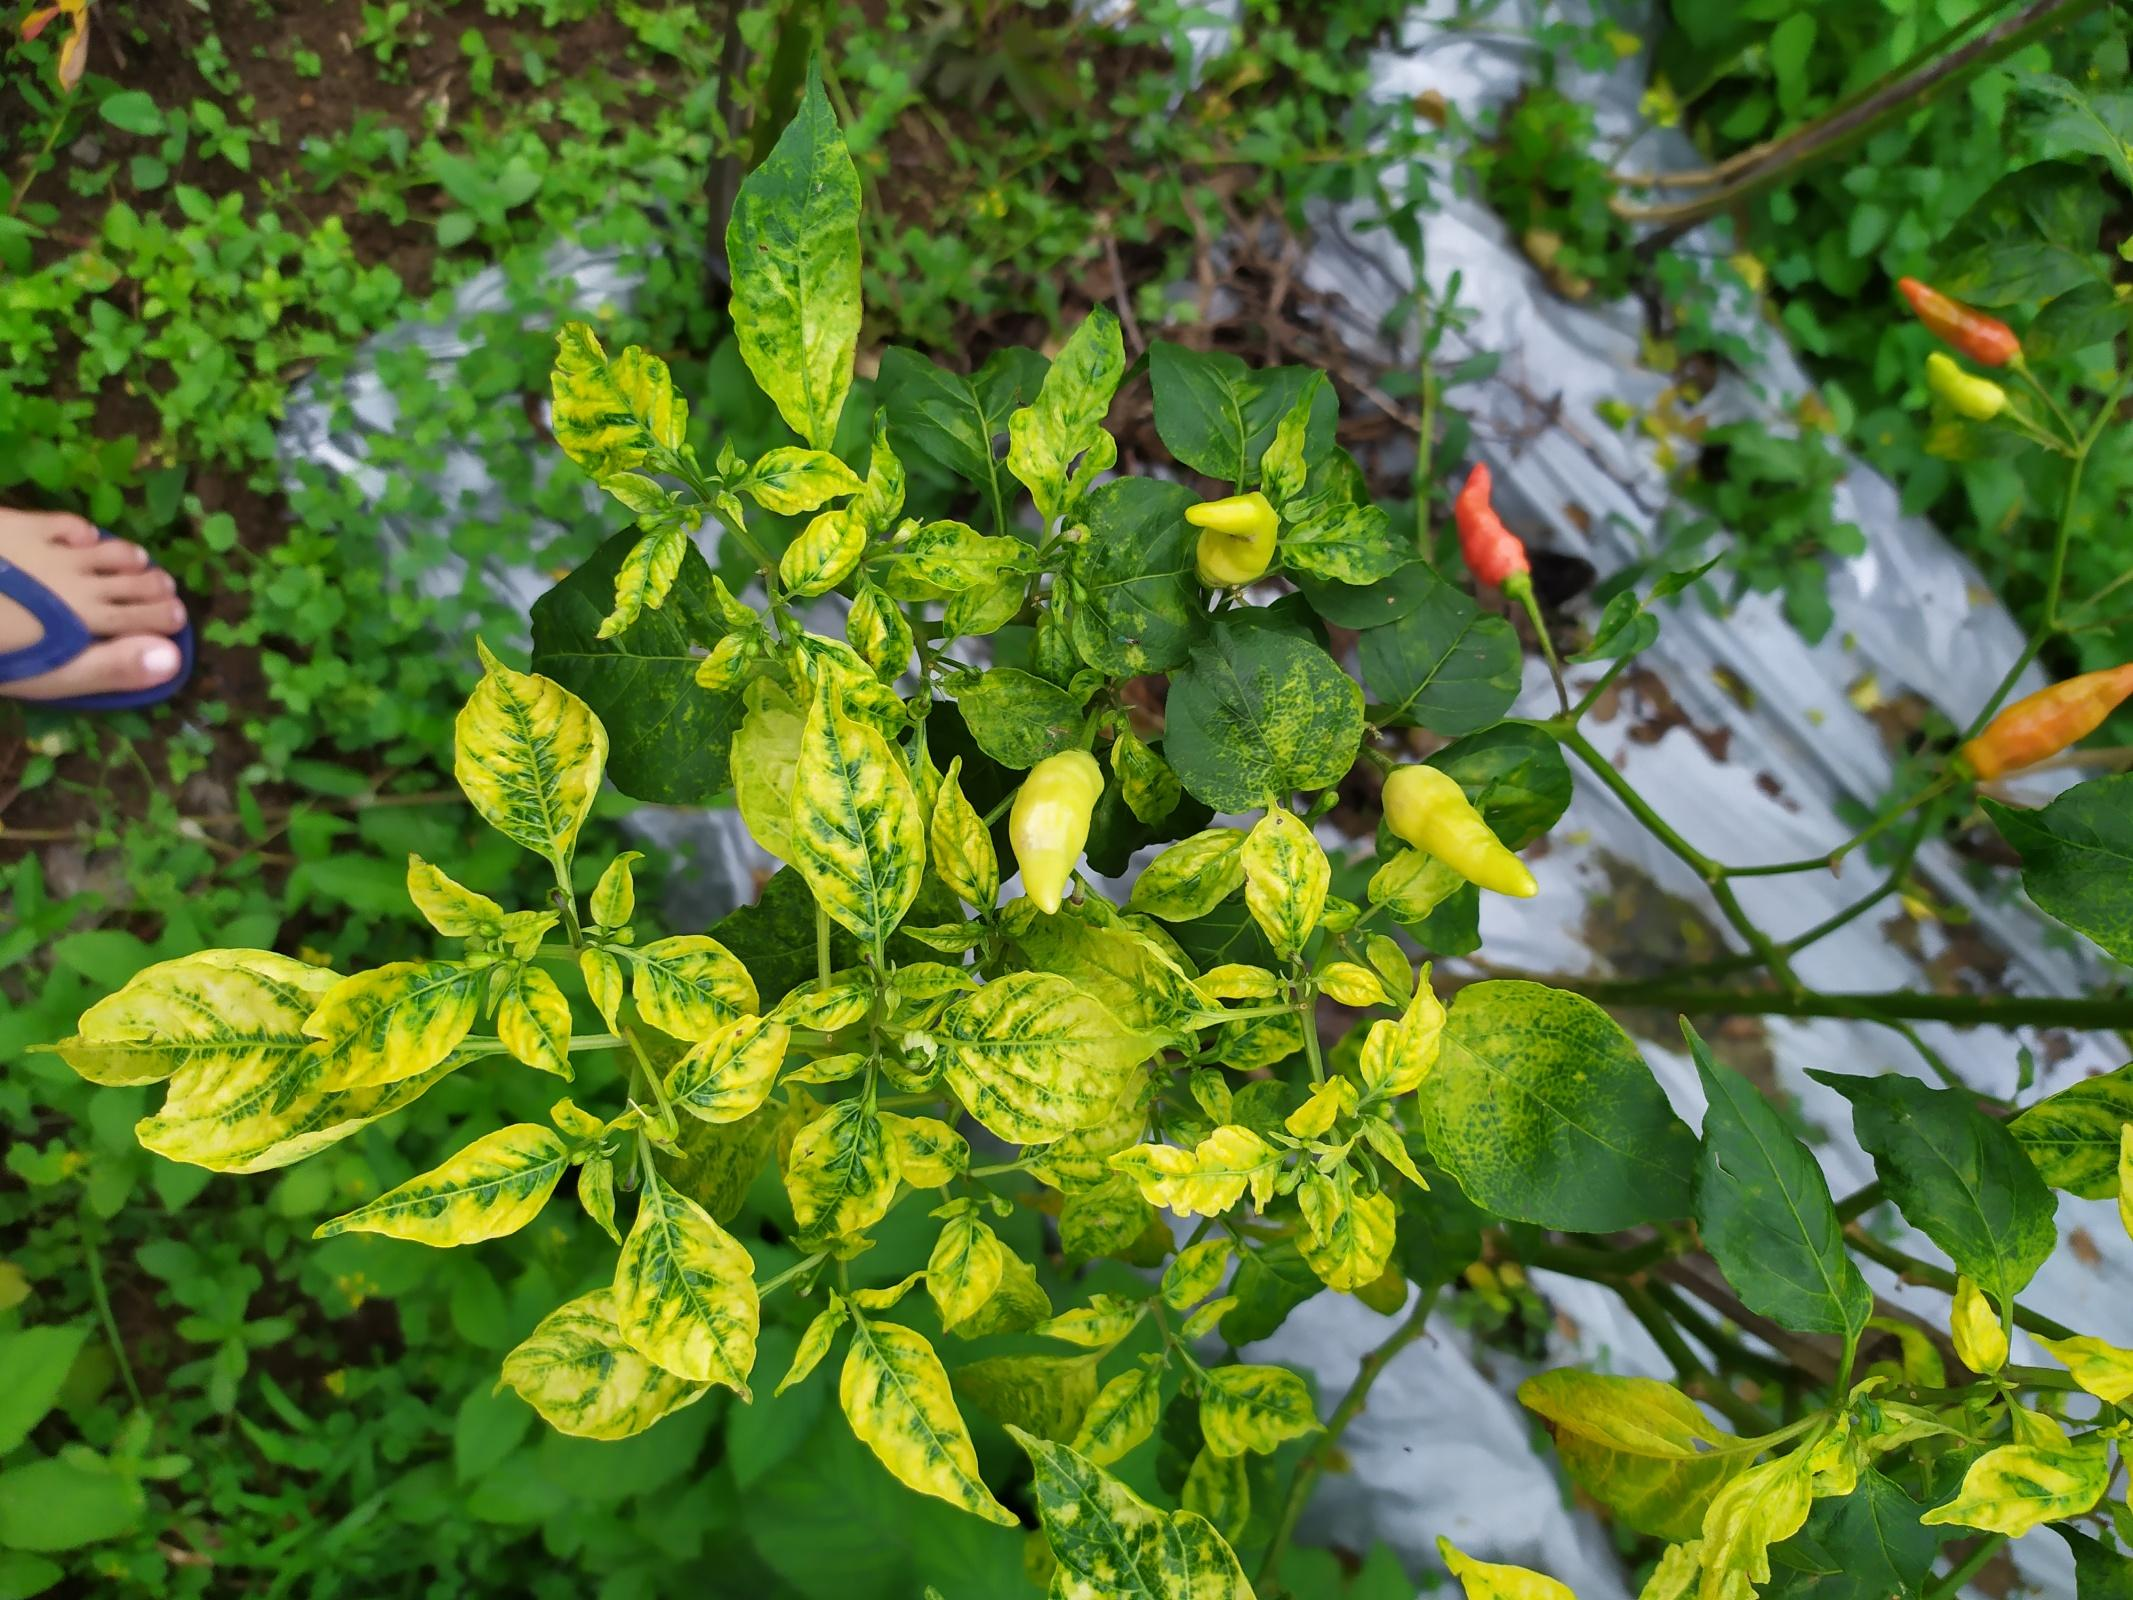cabai_normal: (1378, 761, 1535, 897), (1957, 662, 2131, 783), (1007, 748, 1104, 914), (1452, 464, 1530, 593), (1185, 492, 1279, 587), (1925, 353, 2009, 420)
lalat_buah: (1891, 277, 2017, 368)
